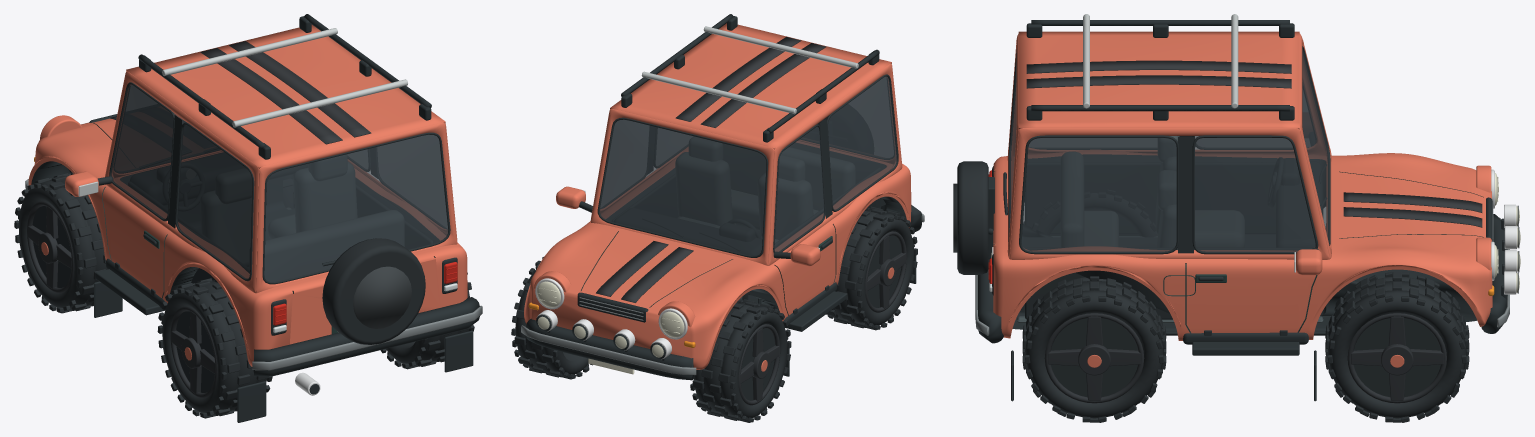
The model's file is tanuki.fbx.
3 views of the same model, side by side, from view 1: azimuth 30°, elevation 25°; view 2: azimuth 150°, elevation 25°; view 3: azimuth 270°, elevation 25° (orthographic). The views are drawn at different scales.
Parts seen in each view (by area): view 1: Body, Wheel_RL_Mesh, Wheel_FL_Mesh, Wheel_RR_Mesh; view 2: Body, Wheel_FL_Mesh, Wheel_RL_Mesh, Wheel_FR_Mesh; view 3: Body, Wheel_FR_Mesh, Wheel_RR_Mesh, Wheel_RL_Mesh.
Boxes of the visible parts, left/top/right/bottom form: Body: left=25, top=14, right=482, bottom=422; Wheel_RL_Mesh: left=157, top=278, right=272, bottom=418; Wheel_FL_Mesh: left=14, top=173, right=107, bottom=313; Wheel_RR_Mesh: left=380, top=272, right=474, bottom=369; Body: left=521, top=14, right=924, bottom=380; Wheel_FL_Mesh: left=690, top=299, right=791, bottom=422; Wheel_RL_Mesh: left=826, top=206, right=917, bottom=330; Wheel_FR_Mesh: left=511, top=257, right=592, bottom=379; Body: left=953, top=14, right=1520, bottom=401; Wheel_FR_Mesh: left=1325, top=271, right=1469, bottom=422; Wheel_RR_Mesh: left=1022, top=276, right=1166, bottom=422; Wheel_RL_Mesh: left=1023, top=190, right=1157, bottom=236.
Bounding box in the file's own units: 225 × 212 × 360.
